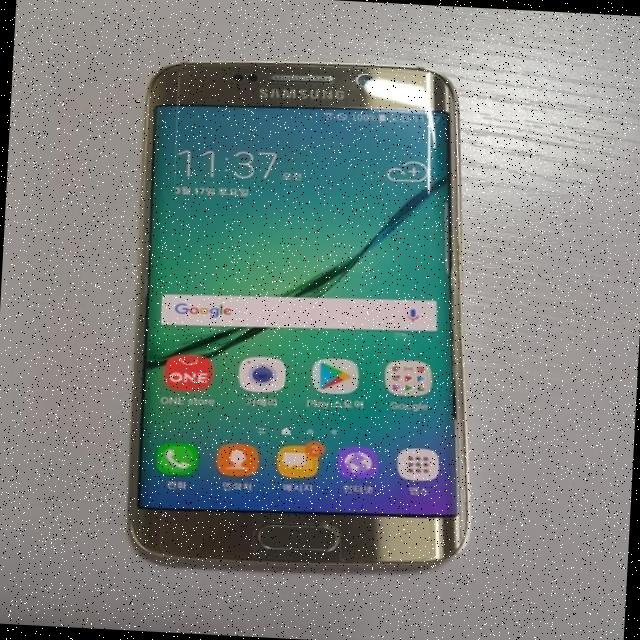phone good: (115, 48, 424, 566)
